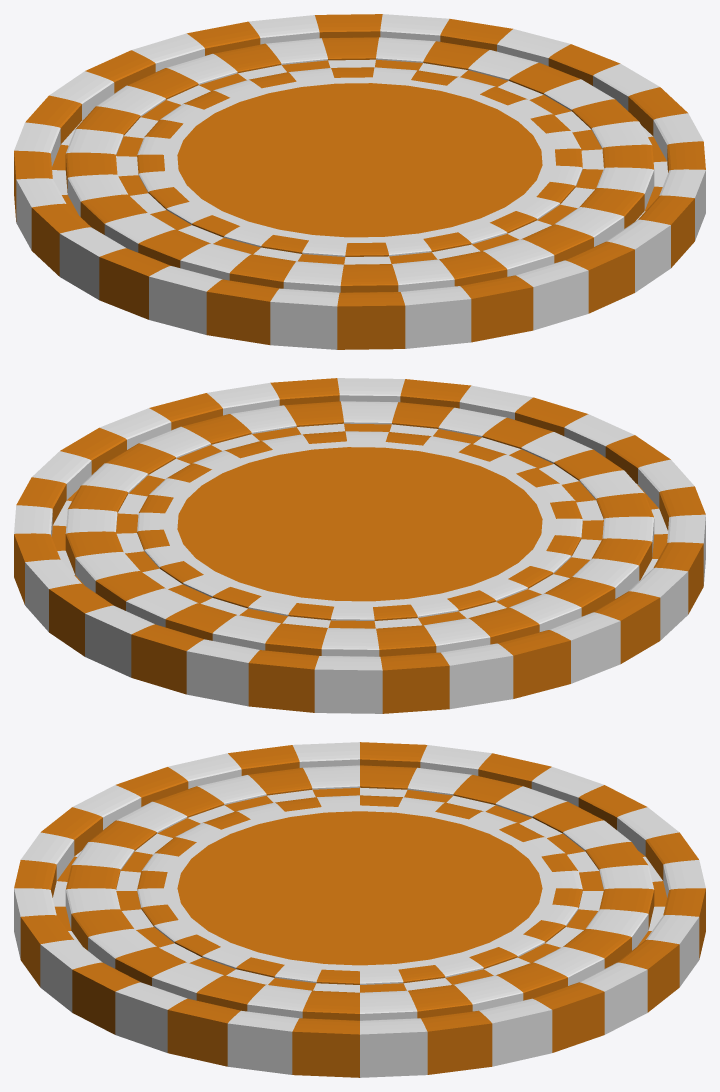
The model's file is letitride4.glb.
3 views of the same model, one above another, from view 1: azimuth 30°, elevation 25°; view 2: azimuth 150°, elevation 25°; view 3: azimuth 270°, elevation 25° (orthographic).
Parts seen in each view (by area): view 1: Cylinder; view 2: Cylinder; view 3: Cylinder.
Boxes of the visible parts, box(x1,y1,x2,y2) form: Cylinder: box(14, 14, 705, 349); Cylinder: box(14, 378, 705, 713); Cylinder: box(14, 742, 705, 1077).
Size of the model in its own units: 2 by 0.1382 by 2.
